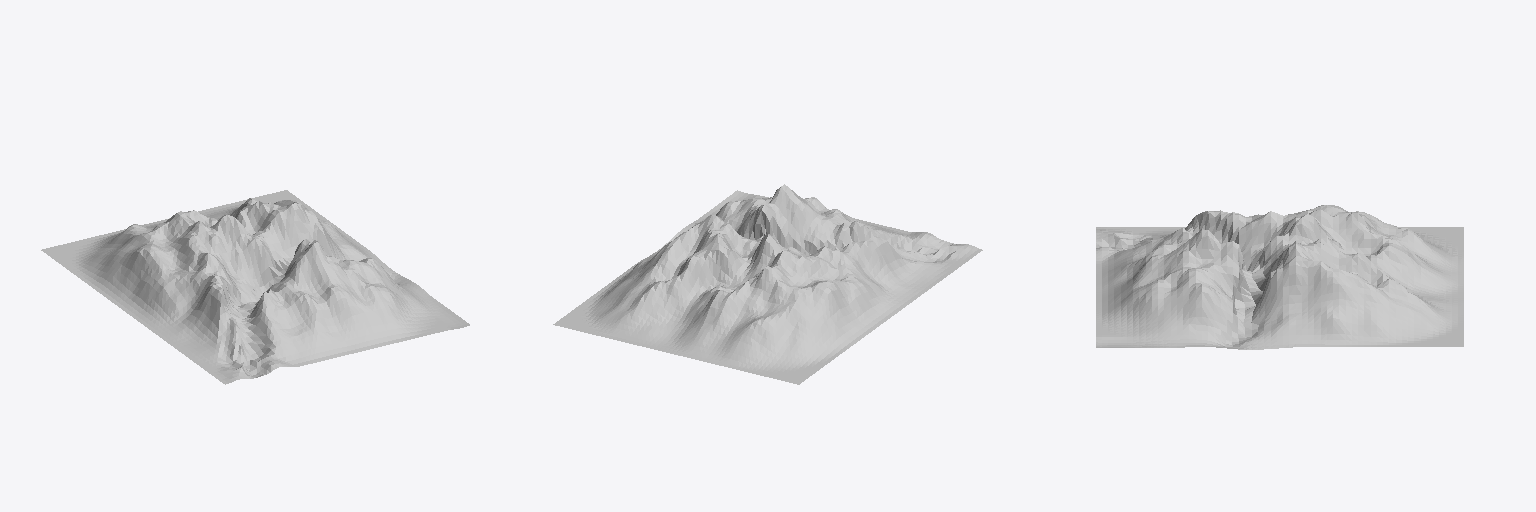
The model's file is mountain.obj.
The picture shows the model from 3 angles: view 1: azimuth 30°, elevation 25°; view 2: azimuth 150°, elevation 25°; view 3: azimuth 270°, elevation 25°; orthographic projection.
Parts seen in each view (by area): view 1: Landscape; view 2: Landscape; view 3: Landscape.
Boxes of the visible parts, x1=… form: Landscape: x1=41, y1=190, x2=469, y2=384; Landscape: x1=553, y1=184, x2=982, y2=384; Landscape: x1=1096, y1=205, x2=1463, y2=349.
Bounding box in the file's own units: 6.47 × 1.88 × 8.39.